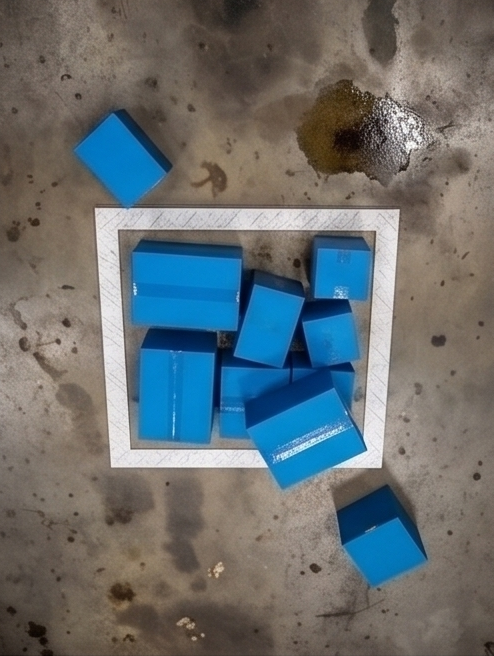blue_box: (243, 367, 368, 492), (75, 106, 175, 213), (131, 239, 243, 332), (338, 485, 427, 589), (141, 327, 218, 442), (234, 269, 305, 368), (220, 347, 292, 438), (301, 298, 362, 369), (310, 238, 372, 301), (292, 350, 354, 410)
container_box: (95, 206, 401, 470)
